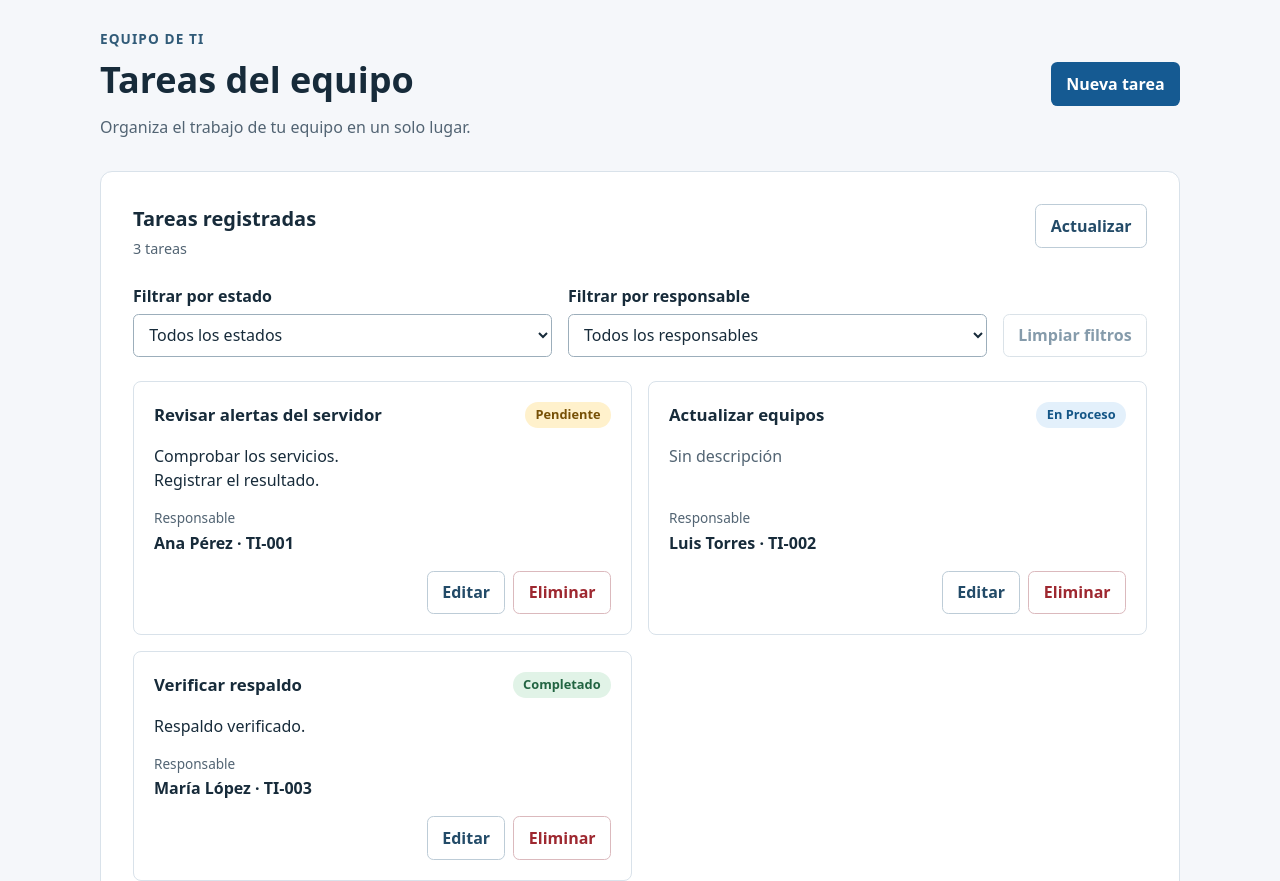
Test: Creación y edición › conserva la edición cuando la tarea ya no existe en el servidor
This screenshot has width=1280, height=881.
Click the button "Editar" below "Revisar alertas del servidor" at (466, 592), box [427,570,505,614]
(page scrolled)
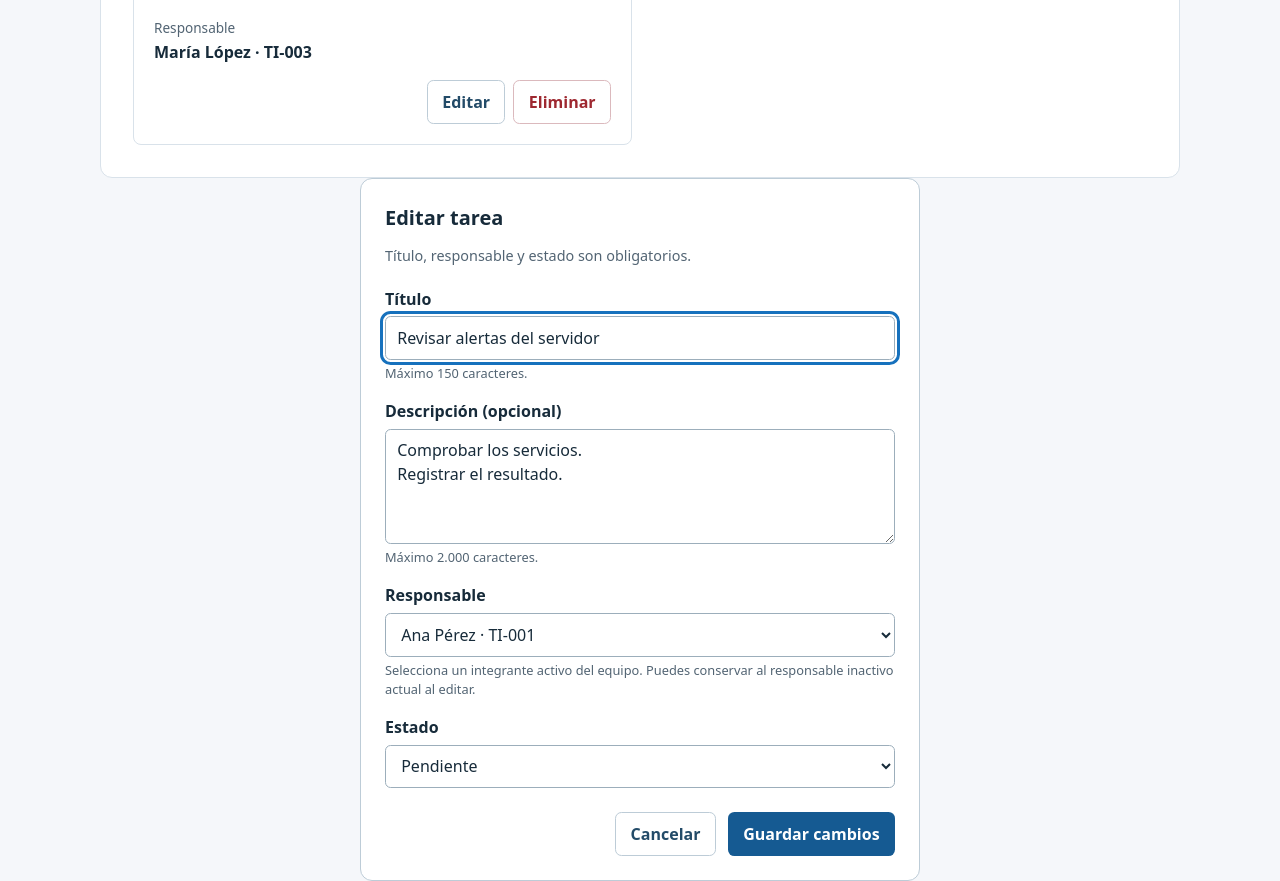
Click the button "Guardar cambios" at (811, 834), box [728,812,895,856]
(page scrolled)
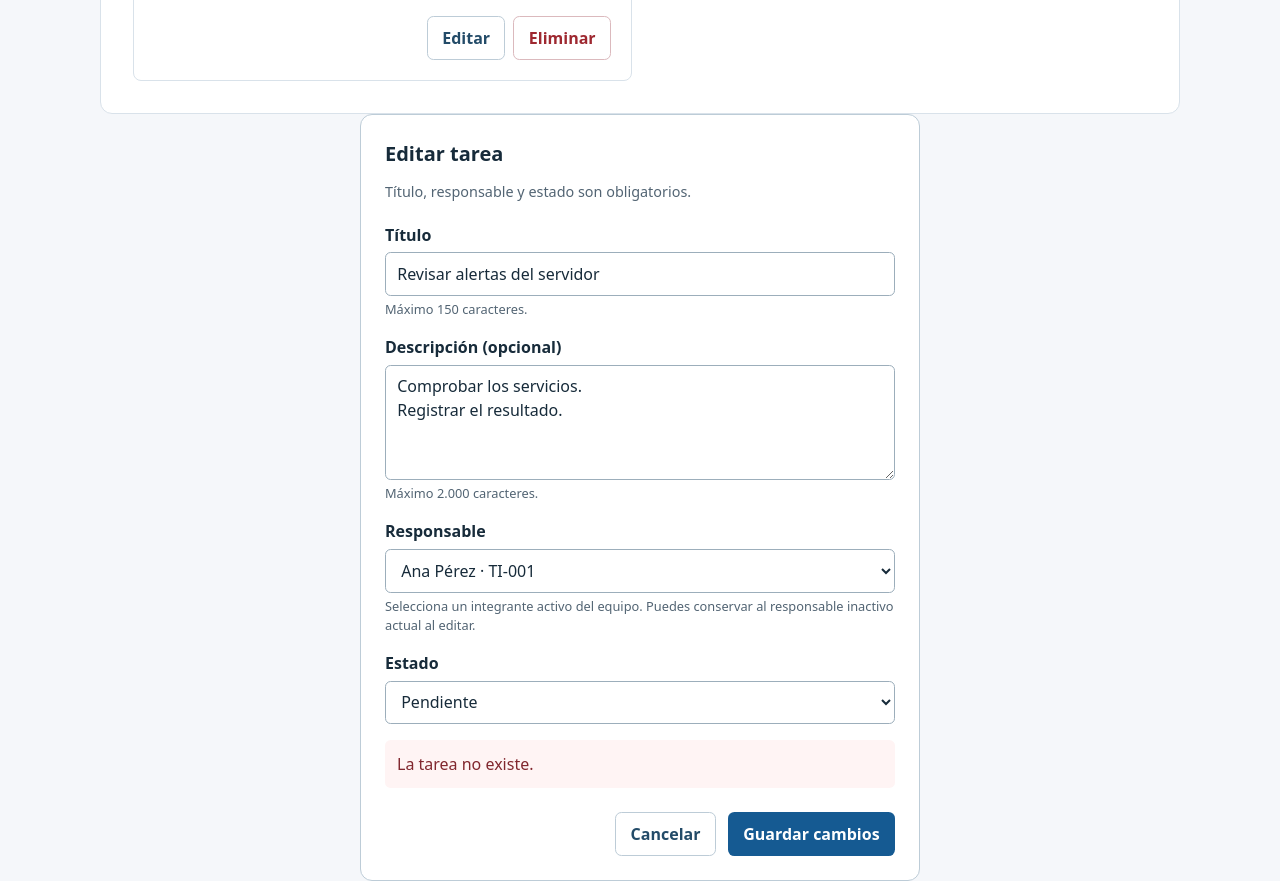
Result: the field labelled "Título" holds "Revisar alertas del servidor" at [385,252,895,296]
Result: the dialog is shown at [360,114,920,880]
Result: the message reads "La tarea no existe." at [397,753,534,775]
